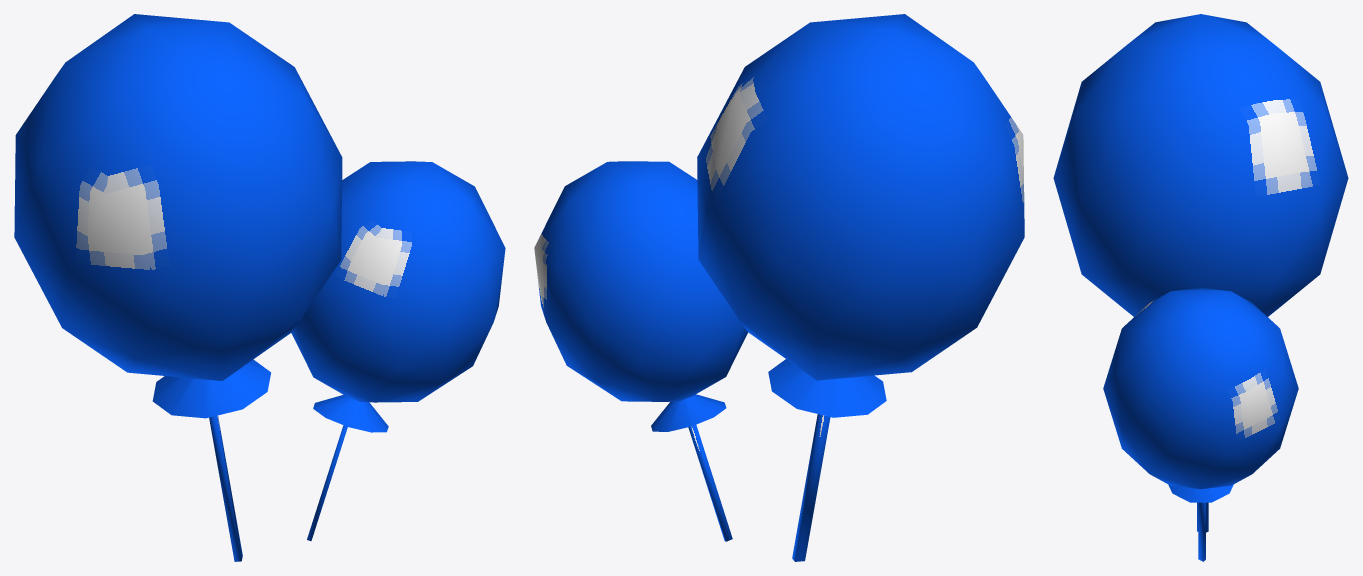
The model's file is amogus-hat-baloon.fbx.
3 views of the same model, side by side, from view 1: azimuth 30°, elevation 25°; view 2: azimuth 150°, elevation 25°; view 3: azimuth 270°, elevation 25° (orthographic). The views are drawn at different scales.
Visible parts, largest first — view 1: BaloonHat; view 2: BaloonHat; view 3: BaloonHat.
Boxes of the visible parts, x1,y1,x2,y2 form: BaloonHat: (14, 14, 505, 561); BaloonHat: (534, 14, 1024, 561); BaloonHat: (1053, 14, 1348, 561).
Size of the model in its own units: 138 by 89.61 by 161.
